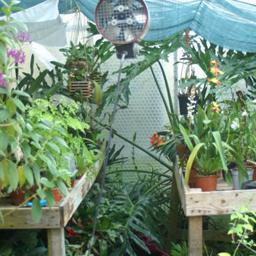Matera: (2, 88, 54, 202), (38, 103, 77, 202), (223, 100, 255, 188), (187, 119, 224, 190)
